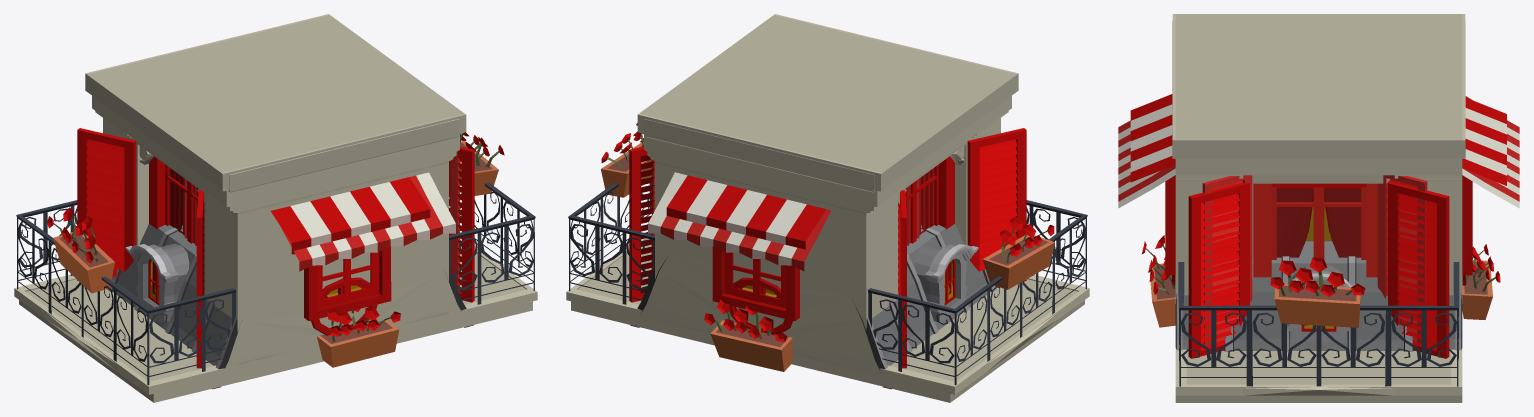
3 views of the same model, side by side, from view 1: azimuth 30°, elevation 25°; view 2: azimuth 150°, elevation 25°; view 3: azimuth 270°, elevation 25° (orthographic). The views are drawn at different scales.
Parts seen in each view (by area): view 1: frenchMid.001, frenchRoof.019, frenchBase.023, flowers.006, flowers.001, flowers.007; view 2: frenchMid.001, frenchRoof.019, frenchBase.023, flowers.008, flowers.001, flowers.007; view 3: frenchMid.001, frenchBase.023, frenchRoof.019, flowers.007, flowers.008, flowers.006.
Boxes of the visible parts, bbox=[...] form: frenchMid.001: bbox=[14, 14, 537, 402]; frenchRoof.019: bbox=[107, 224, 473, 389]; frenchBase.023: bbox=[139, 119, 459, 292]; flowers.006: bbox=[317, 307, 400, 367]; flowers.001: bbox=[47, 207, 114, 293]; flowers.007: bbox=[460, 132, 504, 195]; frenchMid.001: bbox=[566, 14, 1089, 402]; frenchRoof.019: bbox=[630, 224, 996, 389]; frenchBase.023: bbox=[644, 119, 964, 271]; flowers.008: bbox=[704, 299, 792, 371]; flowers.001: bbox=[982, 217, 1054, 289]; flowers.007: bbox=[601, 122, 651, 197]; frenchMid.001: bbox=[1130, 14, 1506, 402]; frenchBase.023: bbox=[1118, 21, 1519, 346]; frenchRoof.019: bbox=[1172, 241, 1465, 351]; flowers.007: bbox=[1270, 257, 1365, 327]; flowers.008: bbox=[1462, 244, 1500, 319]; flowers.006: bbox=[1141, 235, 1175, 327].
Bounding box in the file's own units: 1.03 × 0.5047 × 0.8046.
